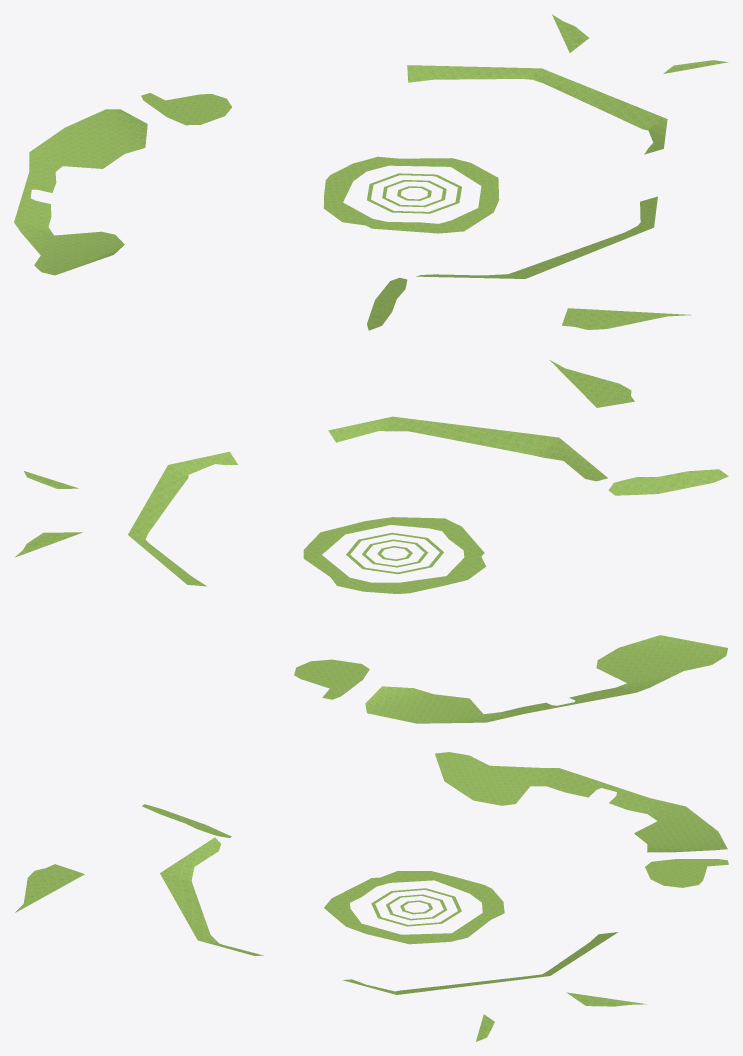
File: kd_connection_world-inner_surface_18_0.glb
3 views of the same model, one above another, from view 1: azimuth 30°, elevation 25°; view 2: azimuth 150°, elevation 25°; view 3: azimuth 270°, elevation 25° (orthographic). The views are drawn at different scales.
Parts seen in each view (by area): view 1: kd_connection_world-inner_surface_18_0; view 2: kd_connection_world-inner_surface_18_0; view 3: kd_connection_world-inner_surface_18_0.
Boxes of the visible parts, <box> form: kd_connection_world-inner_surface_18_0: <box>14,14,728,330</box>; kd_connection_world-inner_surface_18_0: <box>14,360,728,723</box>; kd_connection_world-inner_surface_18_0: <box>15,752,728,1041</box>.
Size of the model in its own units: 40.32 by 2.06 by 38.55.
Materials: 1 (1 with a texture image).
